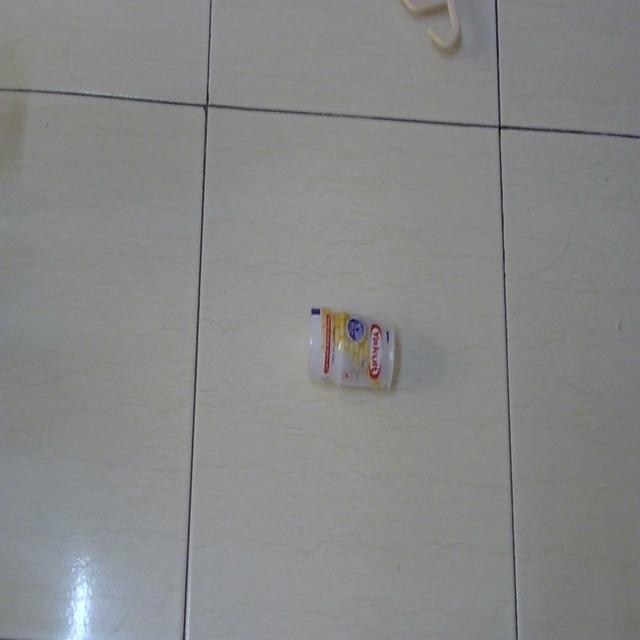plastic_laydown_0rotation: (303, 298, 401, 398)
